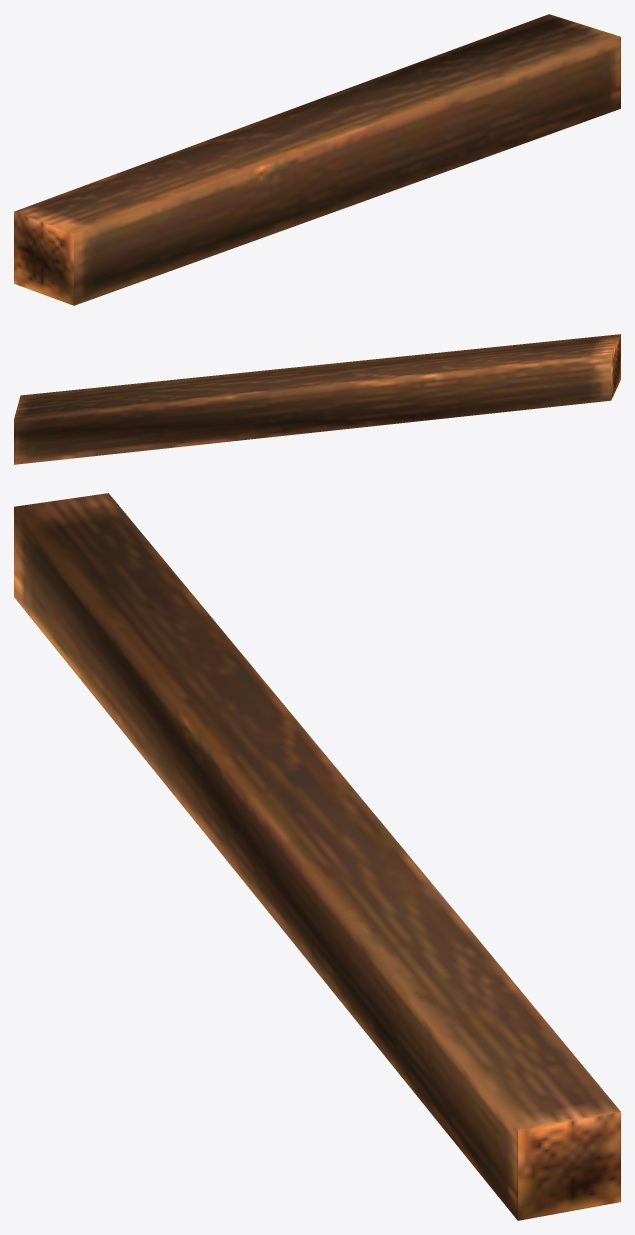
File: SWORDLIGHT20_JAILBRACE50.fbx
3 renders of one model, top to bottom at view 1: azimuth 30°, elevation 25°; view 2: azimuth 150°, elevation 25°; view 3: azimuth 270°, elevation 25°, orthographic. The views are drawn at different scales.
Visible parts, largest first — view 1: SWORDLIGHT20_JAILBRACE50; view 2: SWORDLIGHT20_JAILBRACE50; view 3: SWORDLIGHT20_JAILBRACE50.
Boxes of the visible parts, x1,y1,x2,y2 form: SWORDLIGHT20_JAILBRACE50: [14, 14, 620, 305]; SWORDLIGHT20_JAILBRACE50: [14, 334, 620, 464]; SWORDLIGHT20_JAILBRACE50: [14, 493, 620, 1220].
Bounding box in the file's own units: 44754 × 11347 × 24350.
Materials: 1 (1 with a texture image).
